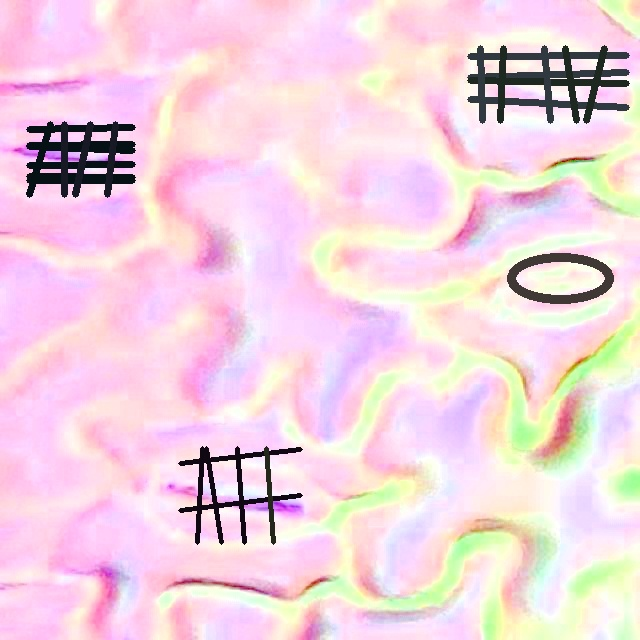close: (467, 45, 629, 123), (507, 253, 614, 304)
open: (178, 447, 302, 543), (26, 121, 135, 197)
